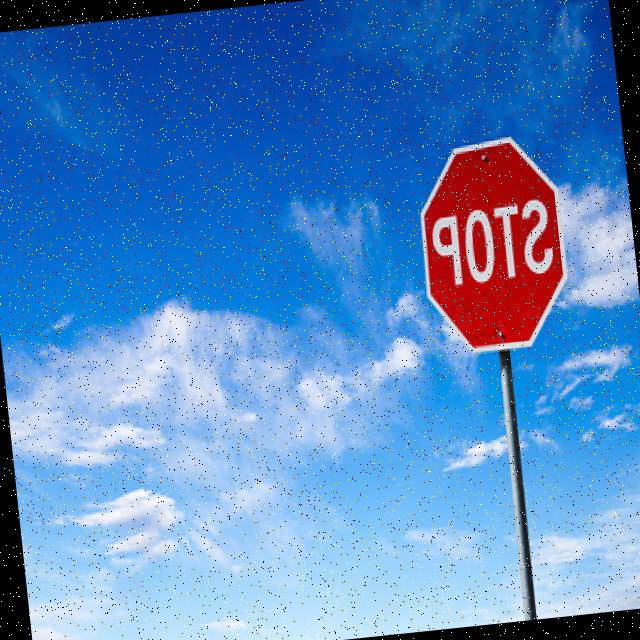stop: (408, 128, 579, 366)
